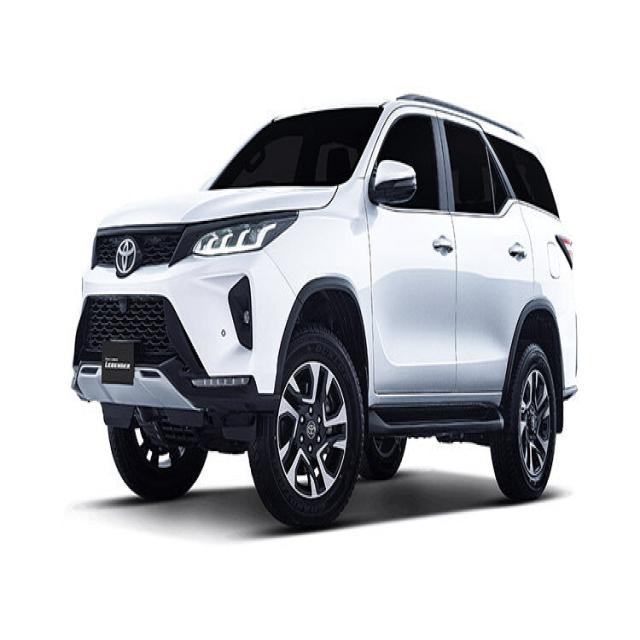light_vehicle: (71, 95, 579, 530)
